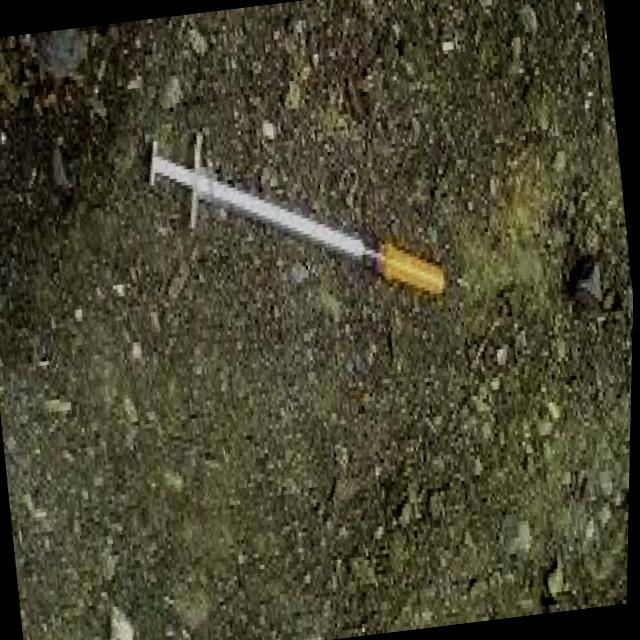Needle: (125, 71, 463, 360)
